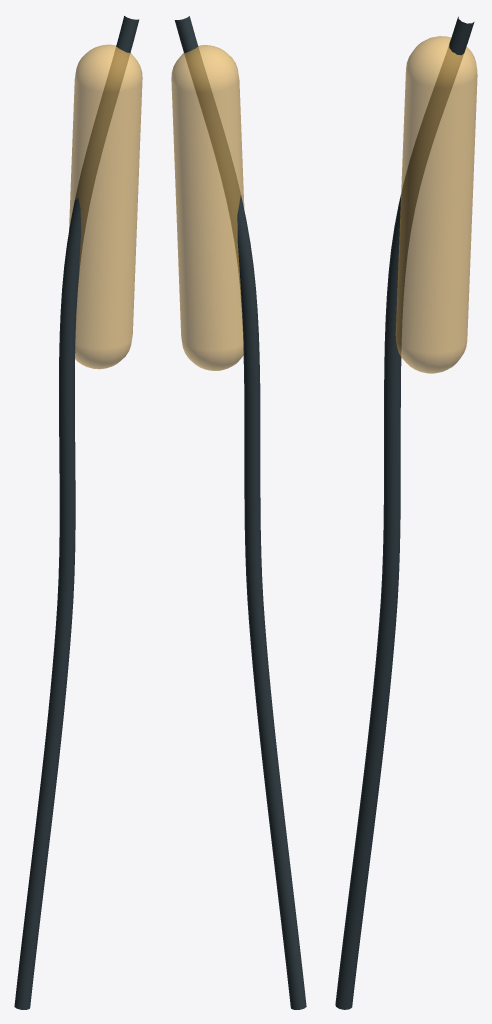
Rendered from iabp-path.glb.
3 renders of one model, left to right at view 1: azimuth 30°, elevation 25°; view 2: azimuth 150°, elevation 25°; view 3: azimuth 330°, elevation 25°, orthographic. The views are drawn at different scales.
Visible parts, largest first — view 1: IABPBalloon, IABPCatheter; view 2: IABPBalloon, IABPCatheter; view 3: IABPBalloon, IABPCatheter.
Part boxes in pixels (x1,y1,x2,y2): IABPBalloon: [69, 44, 142, 369]; IABPCatheter: [14, 16, 139, 1009]; IABPBalloon: [171, 45, 244, 370]; IABPCatheter: [174, 16, 306, 1009]; IABPBalloon: [395, 36, 477, 373]; IABPCatheter: [335, 16, 474, 1009].
Bounding box in the file's own units: 0.4465 × 3.26 × 0.21.
